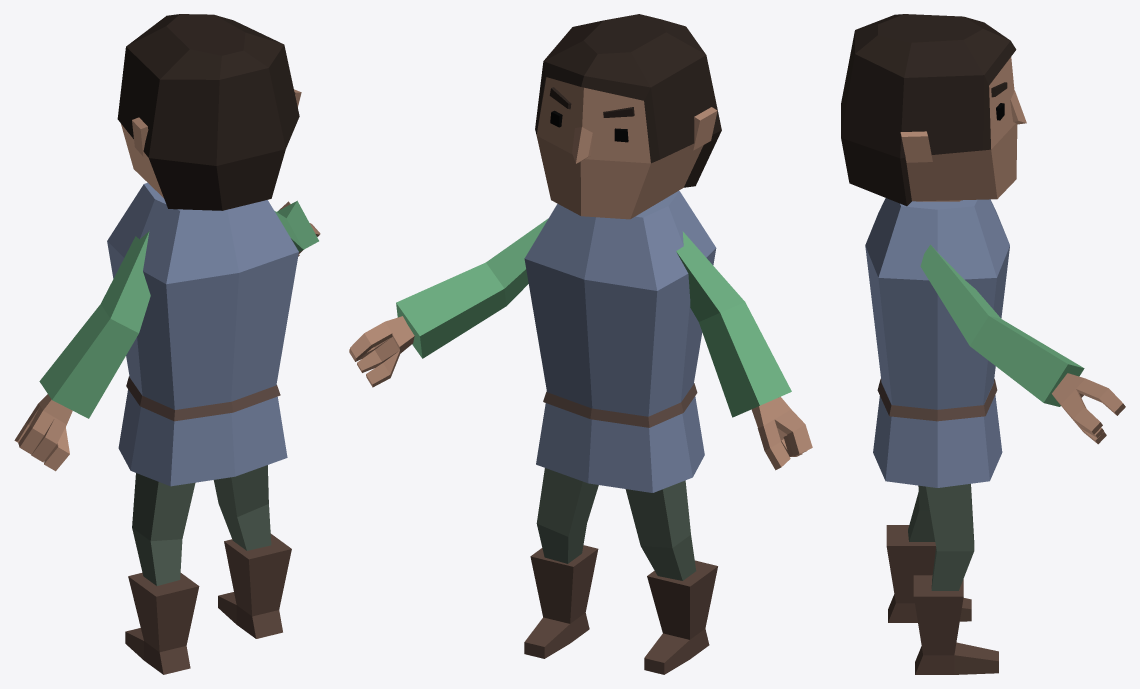
The model's file is homme-1.glb.
3 views of the same model, side by side, from view 1: azimuth 30°, elevation 25°; view 2: azimuth 150°, elevation 25°; view 3: azimuth 270°, elevation 25° (orthographic).
Parts seen in each view (by area): view 1: Object_2; view 2: Object_2; view 3: Object_2.
Part boxes in pixels (x1,y1,x2,y2): Object_2: [14, 14, 320, 674]; Object_2: [349, 14, 812, 674]; Object_2: [841, 14, 1125, 674].
Size of the model in its own units: 1.13 by 1.73 by 0.7302.
Materials: 1 (1 with a texture image).
